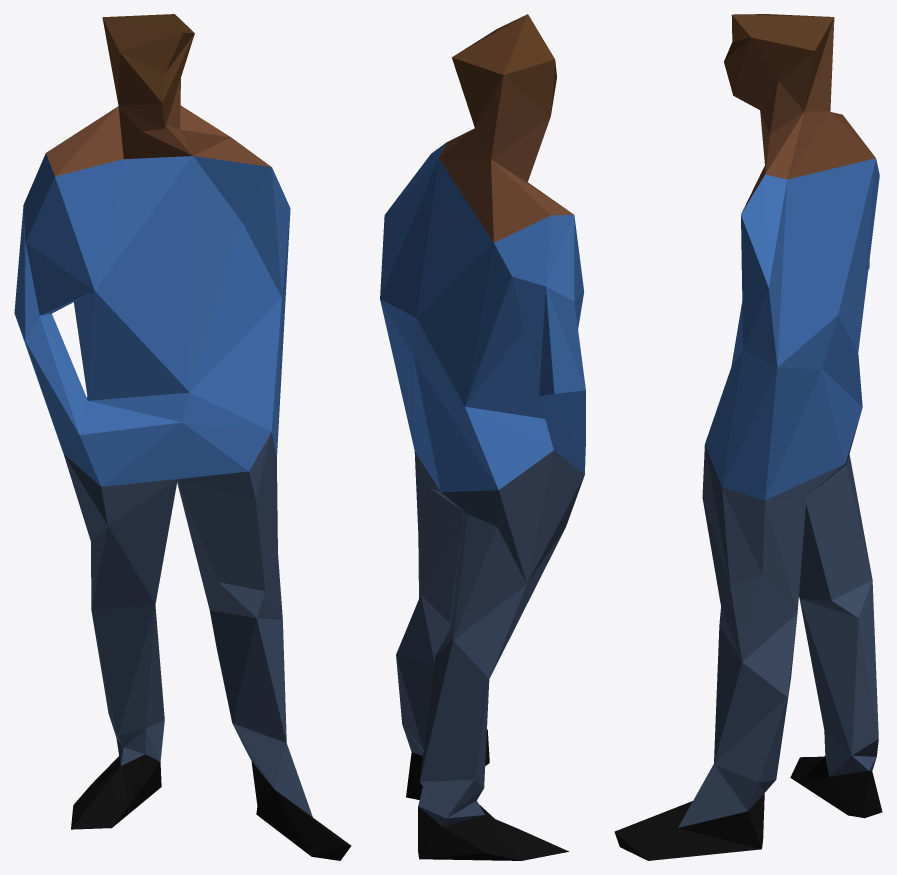
File: walker-32.glb
The picture shows the model from 3 angles, left to right: view 1: azimuth 30°, elevation 25°; view 2: azimuth 150°, elevation 25°; view 3: azimuth 270°, elevation 25°; orthographic projection. The views are drawn at different scales.
Visible parts, largest first — view 1: Man10; view 2: Man10; view 3: Man10.
Part boxes in pixels (x1=…): Man10: x1=14, y1=14, x2=351, y2=860; Man10: x1=380, y1=14, x2=585, y2=860; Man10: x1=614, y1=14, x2=882, y2=860.
Bounding box in the file's own units: 0.455 × 1.5 × 0.464.
